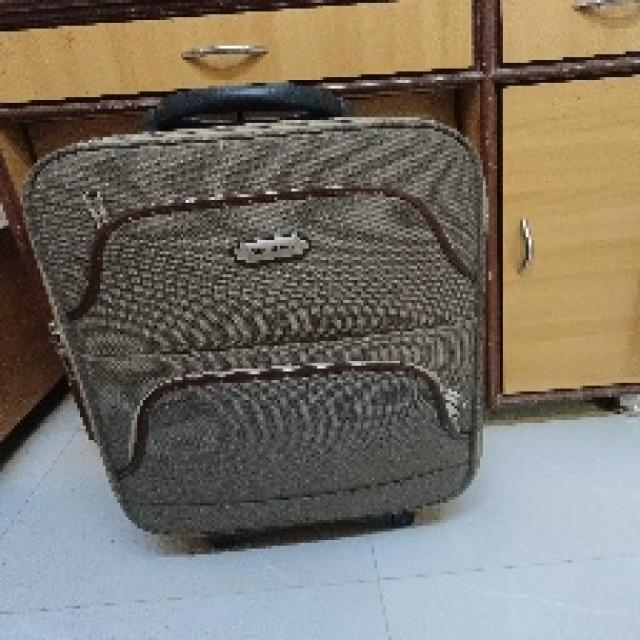Suitcase: (29, 79, 518, 542)
